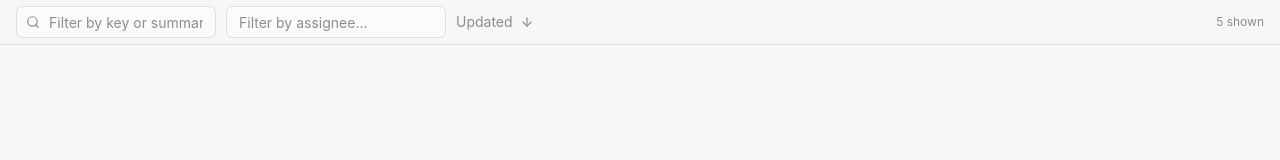
TicketFilterBar — Assignee autocomplete › shows "no users found" when search returns empty array
Type "xyz" into the dropdown with placeholder "Filter by assignee..." at (336, 22), box [226,6,446,38]
Wait 300 ms
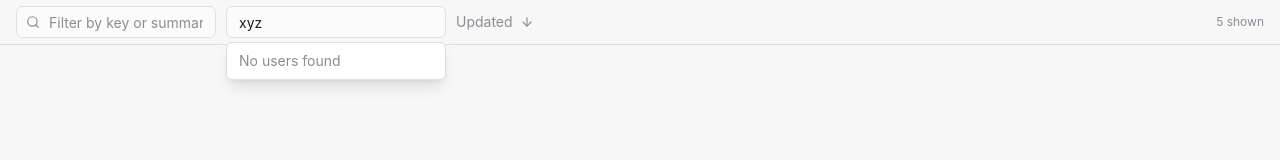
Expected: the text "No users found" is shown, [239,52,341,69]
